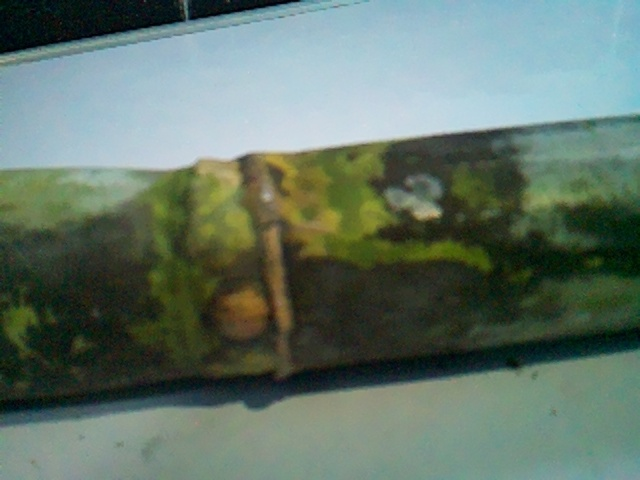Good Sugarcane: (0, 109, 639, 416)
Node: (172, 147, 345, 388)
